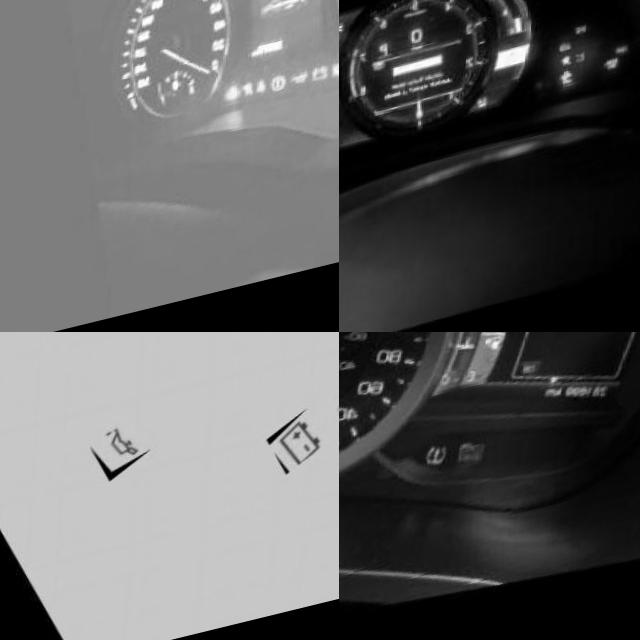Seat Belt: (251, 88, 265, 105)
